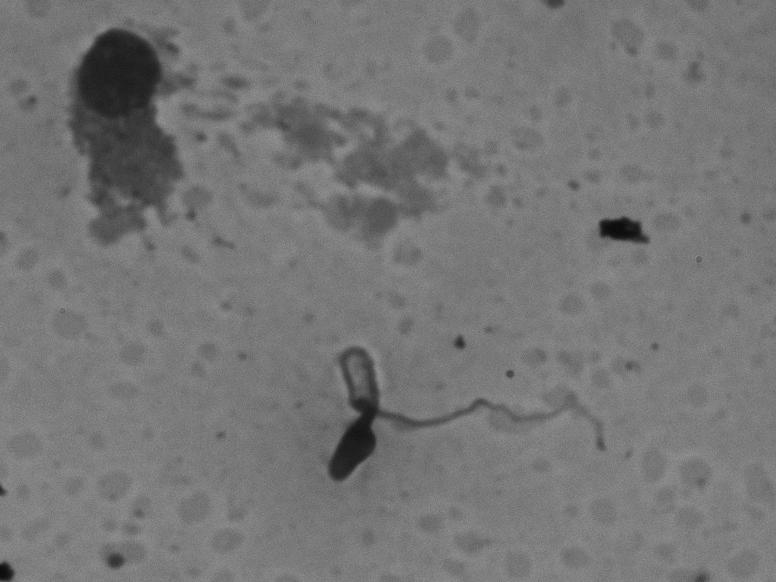Abnormal: (296, 301, 641, 499)
